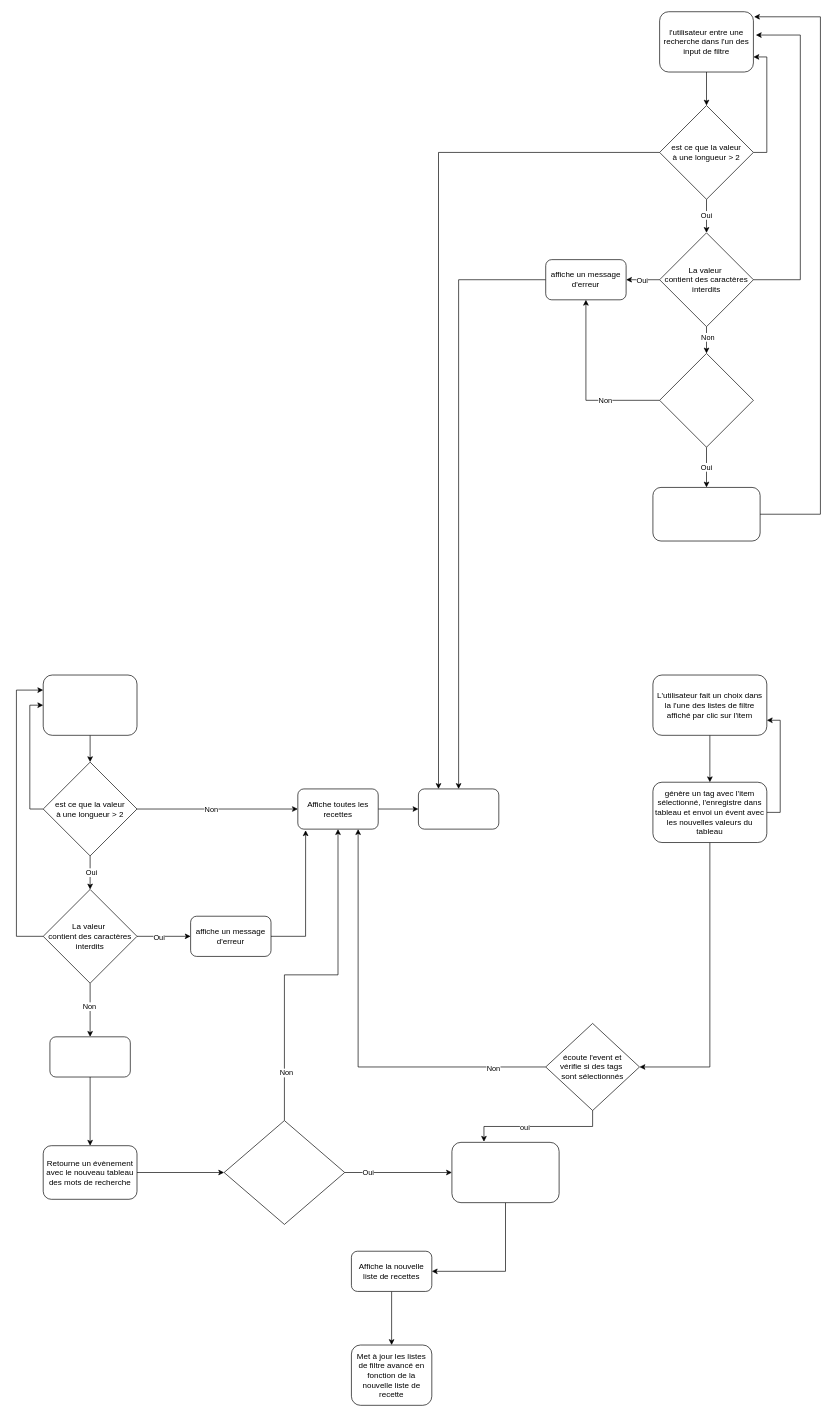
Some shapes in this 838 by 1417 pixel diagram are drawn without their labels. Each missing label, with the box of its shape:
Affiche tous les ingrédients, appareils et ustensiles: (418, 788, 499, 829)
coupe la valeur en mot dans un nouveau tableau: (49, 1036, 130, 1077)
Filtre les recettes et les enregistre dans un nouveau tableau: (451, 1142, 559, 1203)
l'utilisateur entre une recherche dans le champs de recherche principal: (43, 674, 137, 735)
Mise à jour de l'affichage de la liste en fonction de la valeur de l'input: (652, 487, 760, 541)
Vérifie si il existe des correspondances dans la liste de l'input concerné: (659, 353, 753, 447)
écoute l'event et vérifie si des mots sont dans le tableau: (223, 1120, 345, 1224)
